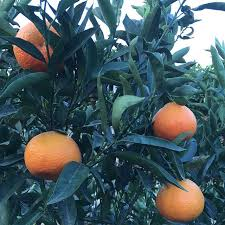orange: (24, 128, 82, 180), (14, 20, 66, 73), (152, 173, 207, 222), (149, 95, 198, 148)
